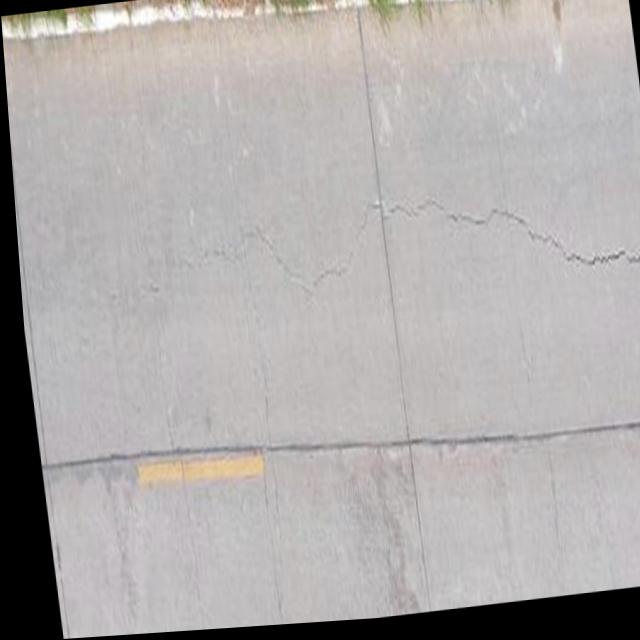Crack: (455, 171, 640, 333)
